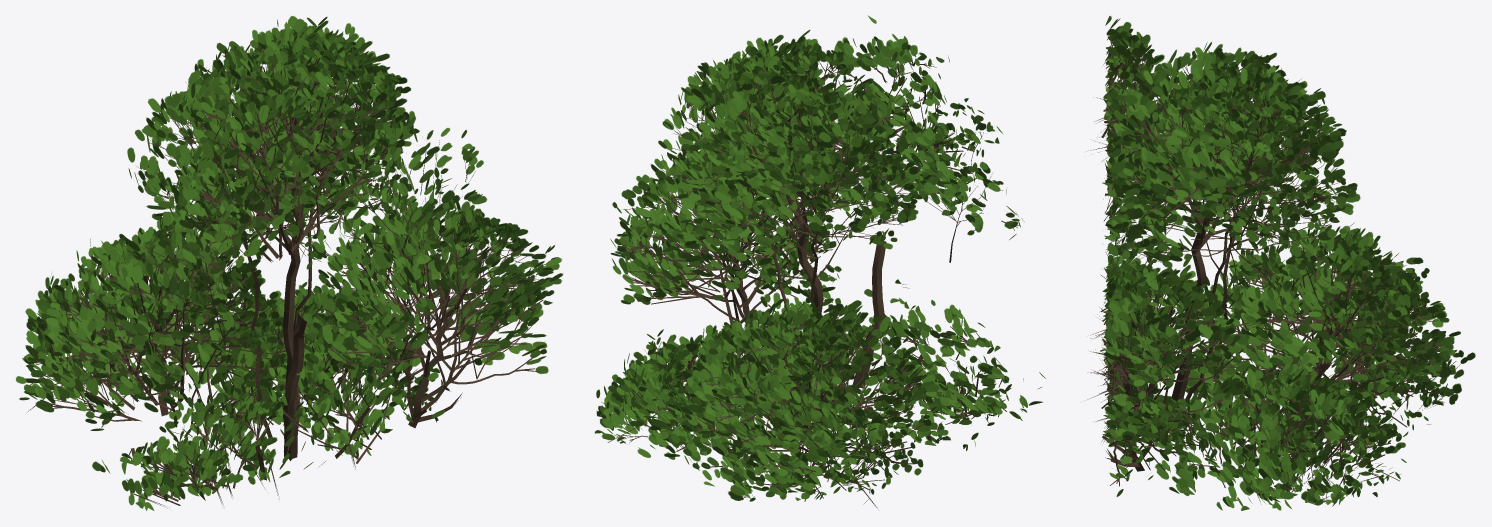
3 views of the same model, side by side, from view 1: azimuth 30°, elevation 25°; view 2: azimuth 150°, elevation 25°; view 3: azimuth 270°, elevation 25° (orthographic). The views are drawn at different scales.
Parts seen in each view (by area): view 1: oak 01.001_trunk_Mat.001_0.419; view 2: oak 01.001_trunk_Mat.001_0.419; view 3: oak 01.001_trunk_Mat.001_0.419.
Boxes of the visible parts, bbox=[...] form: oak 01.001_trunk_Mat.001_0.419: bbox=[16, 16, 563, 510]; oak 01.001_trunk_Mat.001_0.419: bbox=[594, 15, 1045, 508]; oak 01.001_trunk_Mat.001_0.419: bbox=[1087, 16, 1475, 510].
Bounding box in the file's own units: 5.65 × 4.96 × 4.38.
Materials: 2 (1 with a texture image).
